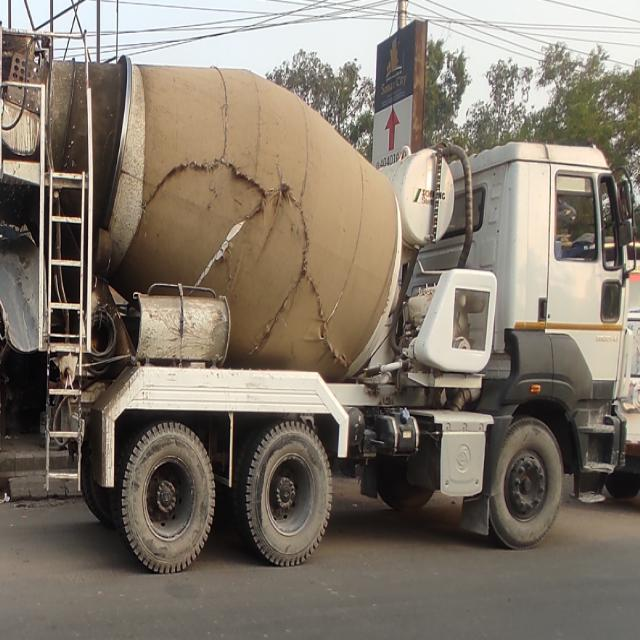truck: (12, 34, 636, 640)
